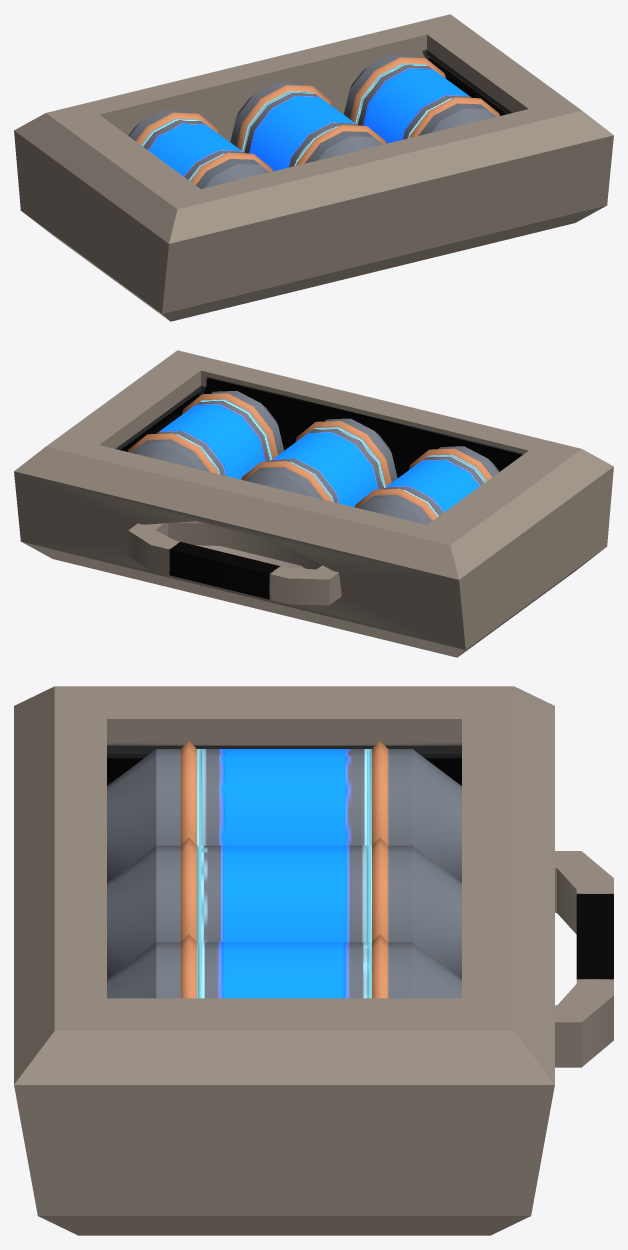
Rendered from HealthPack.gltf.
3 views of the same model, one above another, from view 1: azimuth 30°, elevation 25°; view 2: azimuth 150°, elevation 25°; view 3: azimuth 270°, elevation 25° (orthographic). The views are drawn at different scales.
Parts seen in each view (by area): view 1: Box, Cylinder.006, Cylinder.011; view 2: Box, Cylinder.006, Handle, Cylinder.011; view 3: Box, Cylinder.006, Handle, Cylinder.011.
Part boxes in pixels (left/top/right/bottom): Box: left=14, top=14, right=613, bottom=321; Cylinder.006: left=128, top=54, right=496, bottom=188; Cylinder.011: left=136, top=57, right=499, bottom=184; Box: left=14, top=350, right=613, bottom=657; Cylinder.006: left=131, top=390, right=499, bottom=524; Handle: left=128, top=523, right=341, bottom=605; Cylinder.011: left=128, top=393, right=491, bottom=520; Box: left=14, top=686, right=554, bottom=1235; Cylinder.006: left=107, top=749, right=461, bottom=998; Handle: left=555, top=851, right=613, bottom=1067; Cylinder.011: left=180, top=741, right=388, bottom=998.
Size of the model in its own units: 1.16 by 0.3105 by 0.7791.
1 material, 1 textured.
